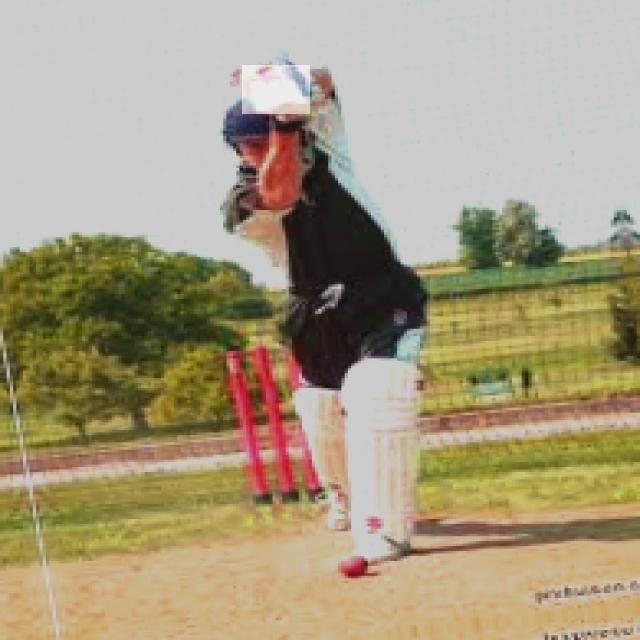bat: (237, 63, 311, 118)
